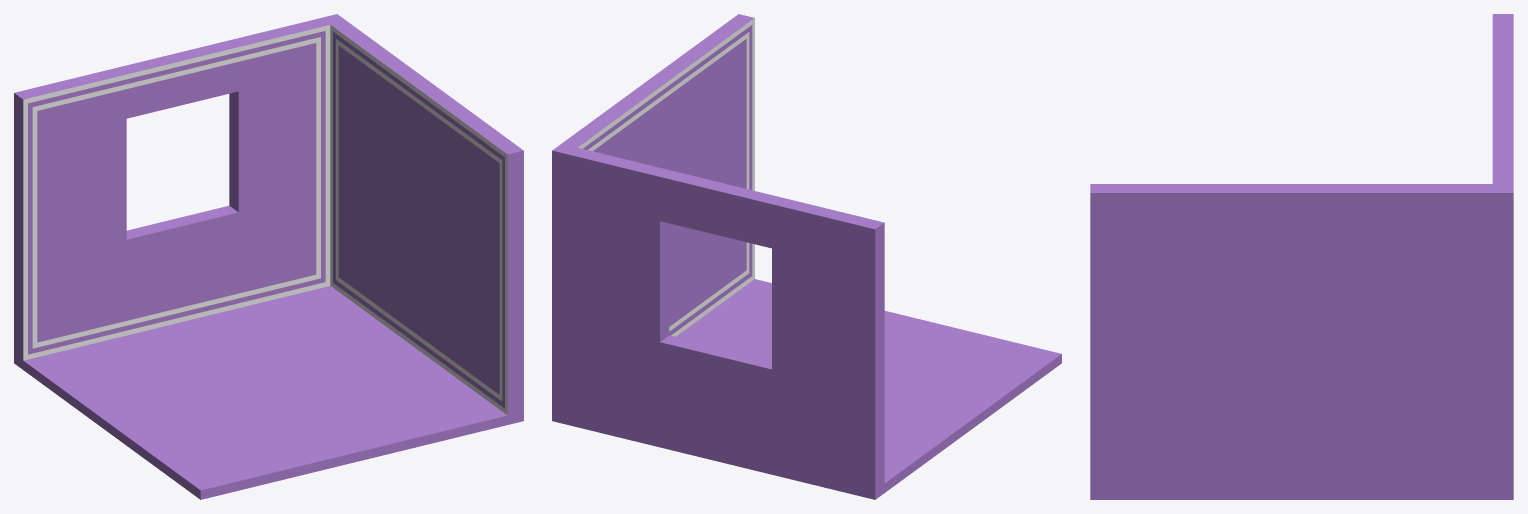
The model's file is Wall_33.fbx.
3 renders of one model, left to right at view 1: azimuth 30°, elevation 25°; view 2: azimuth 150°, elevation 25°; view 3: azimuth 270°, elevation 25°, orthographic. The views are drawn at different scales.
Visible parts, largest first — view 1: Wall_33; view 2: Wall_33; view 3: Wall_33.
Boxes of the visible parts, x1,y1,x2,y2 form: Wall_33: [14, 14, 523, 499]; Wall_33: [552, 14, 1061, 499]; Wall_33: [1090, 14, 1513, 499].
Bounding box in the file's own units: 3.8 × 3.04 × 3.8.
